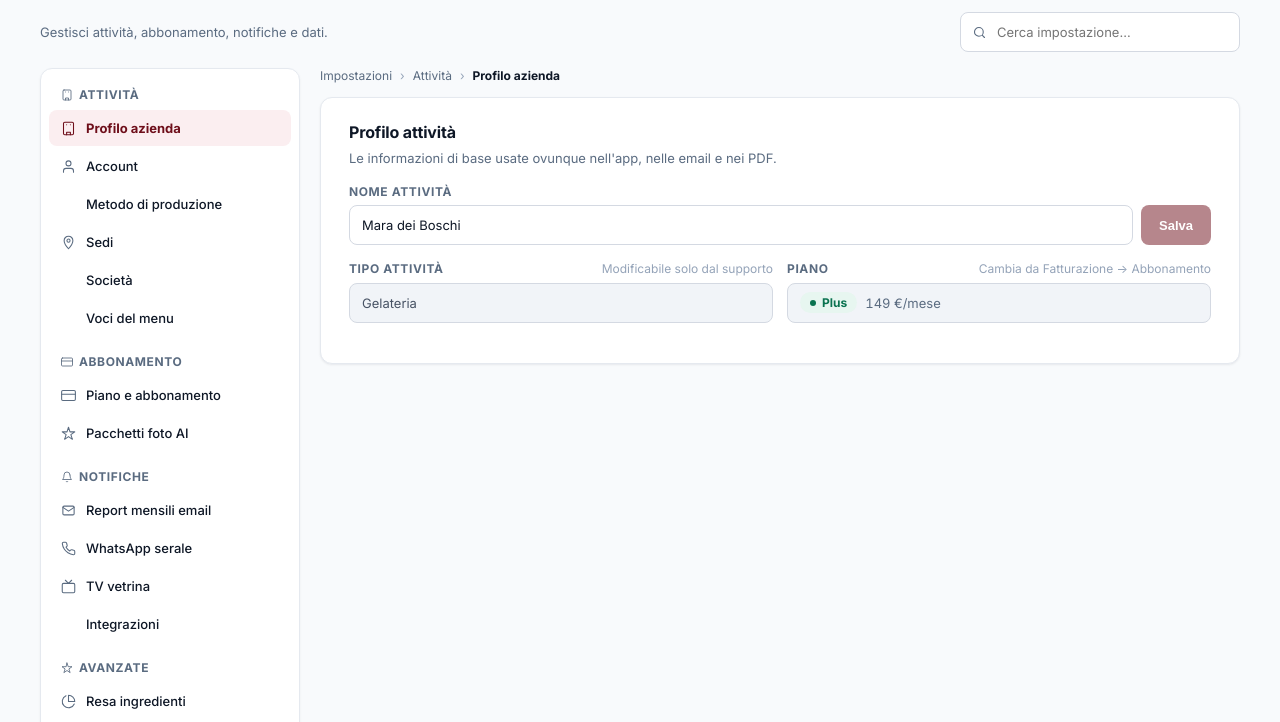
Test: Impostazioni · metodo di produzione › con l'inventario differenziale l'attivo è l'altro
This screenshot has width=1280, height=722.
Click the button "Metodo di produzione" at (170, 204), box [49,186,291,222]
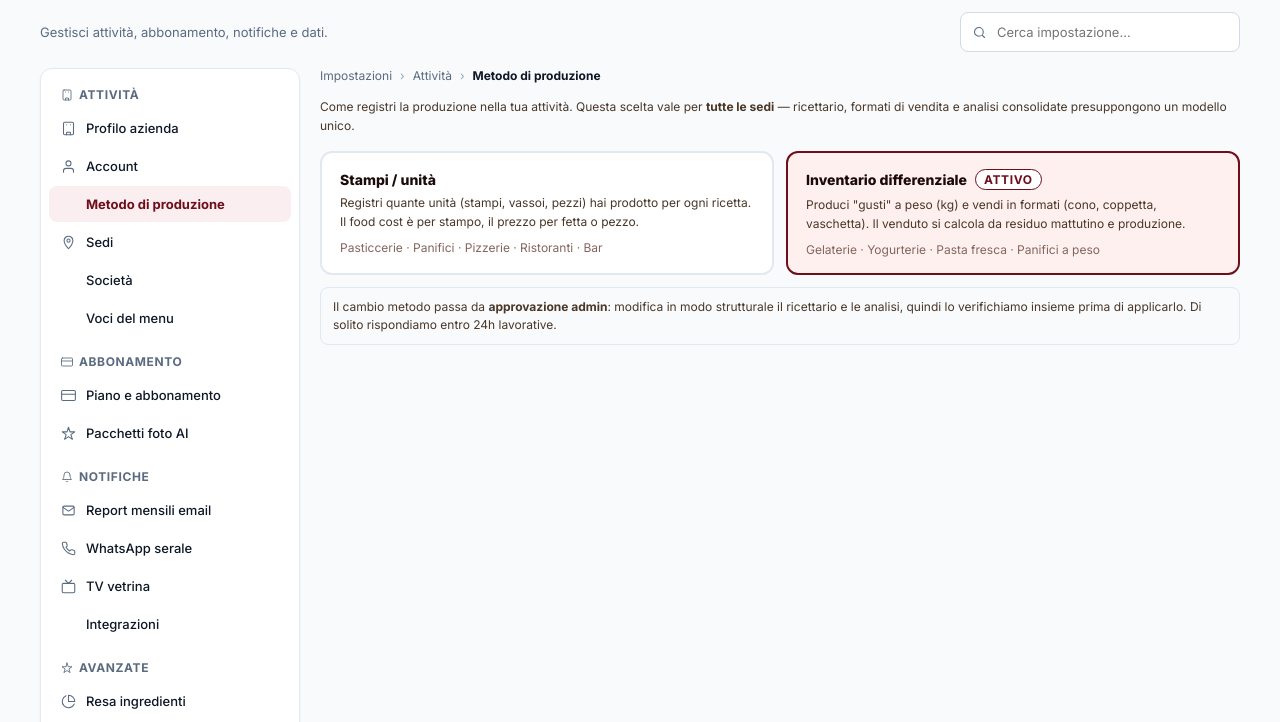
Expected: the text "Attivo" is shown, [975,169,1042,190]
